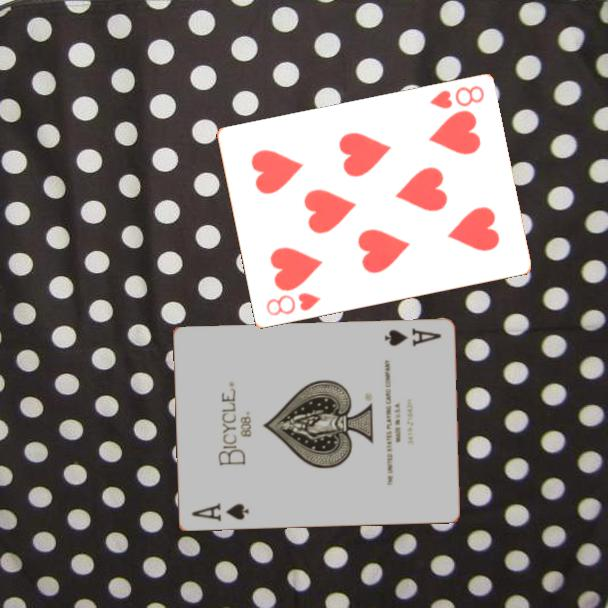h08: (262, 289, 323, 319), (426, 82, 487, 112)
s01: (188, 500, 251, 525), (381, 325, 444, 350)
